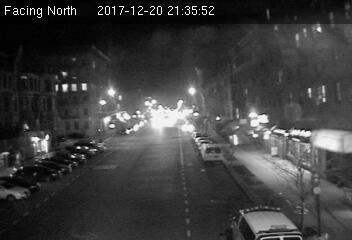police: (227, 202, 309, 240)
truck: (200, 144, 223, 163)
